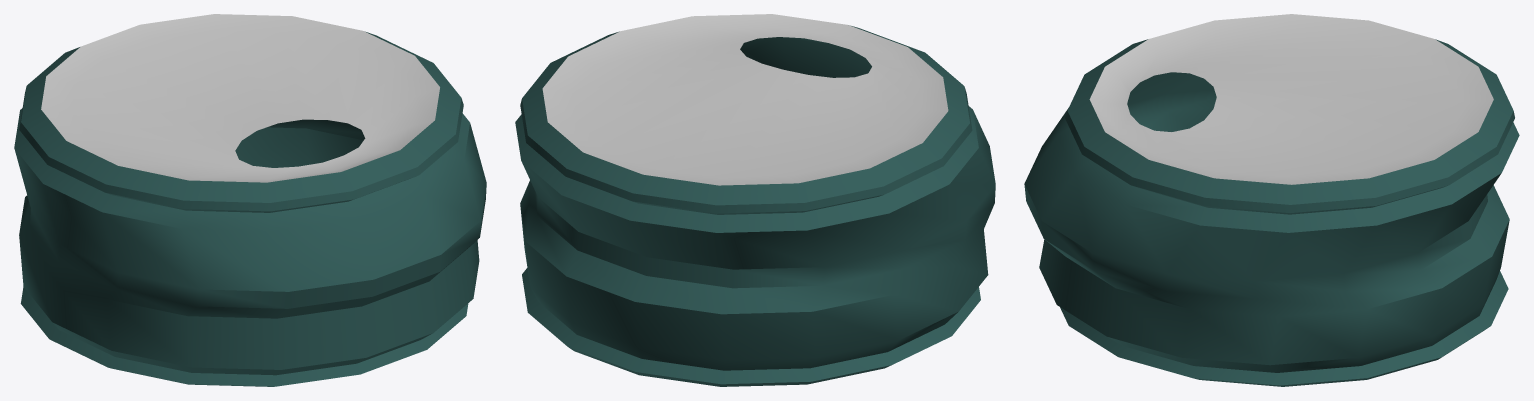
Rendered from LataBebida_06.fbx.
3 views of the same model, side by side, from view 1: azimuth 30°, elevation 25°; view 2: azimuth 150°, elevation 25°; view 3: azimuth 270°, elevation 25° (orthographic).
Parts seen in each view (by area): view 1: LataBebida_06; view 2: LataBebida_06; view 3: LataBebida_06.
Boxes of the visible parts, <box> form: LataBebida_06: <box>14,14,486,386</box>; LataBebida_06: <box>515,14,995,386</box>; LataBebida_06: <box>1024,14,1519,386</box>.
Size of the model in its own units: 26.06 by 12.28 by 27.95.
